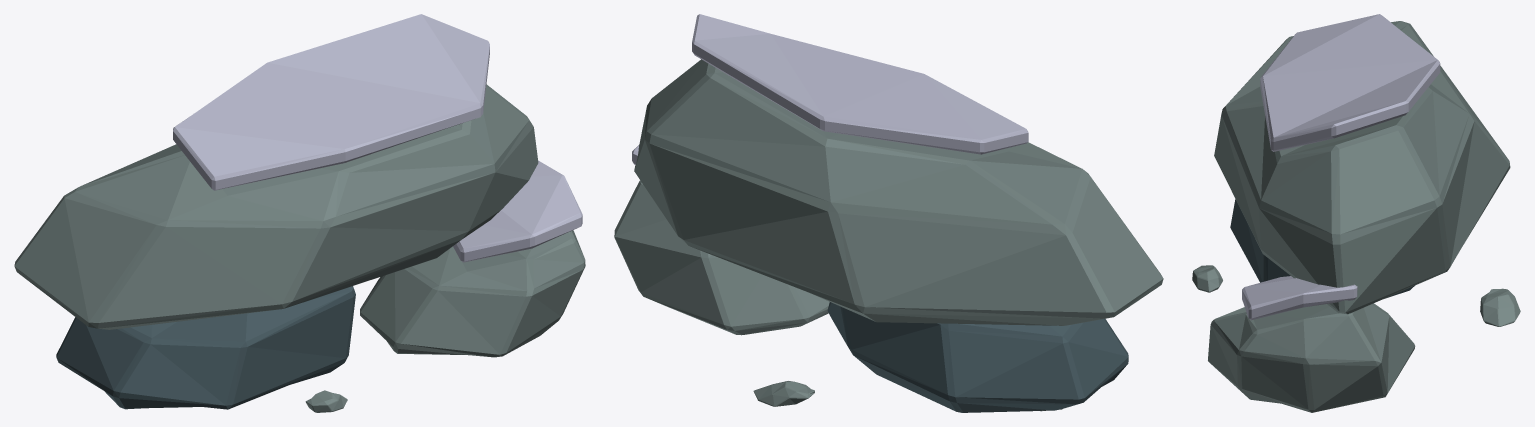
File: rock_ledge_snow.glb
The picture shows the model from 3 angles, left to right: view 1: azimuth 30°, elevation 25°; view 2: azimuth 150°, elevation 25°; view 3: azimuth 270°, elevation 25°; orthographic projection. The views are drawn at different scales.
Visible parts, largest first — view 1: rock_ledge_snow; view 2: rock_ledge_snow; view 3: rock_ledge_snow.
Part boxes in pixels (<box>): rock_ledge_snow: <box>14,14,585,412</box>; rock_ledge_snow: <box>614,14,1163,412</box>; rock_ledge_snow: <box>1192,14,1520,412</box>.
Bounding box in the file's own units: 3.77 × 1.96 × 2.1.
